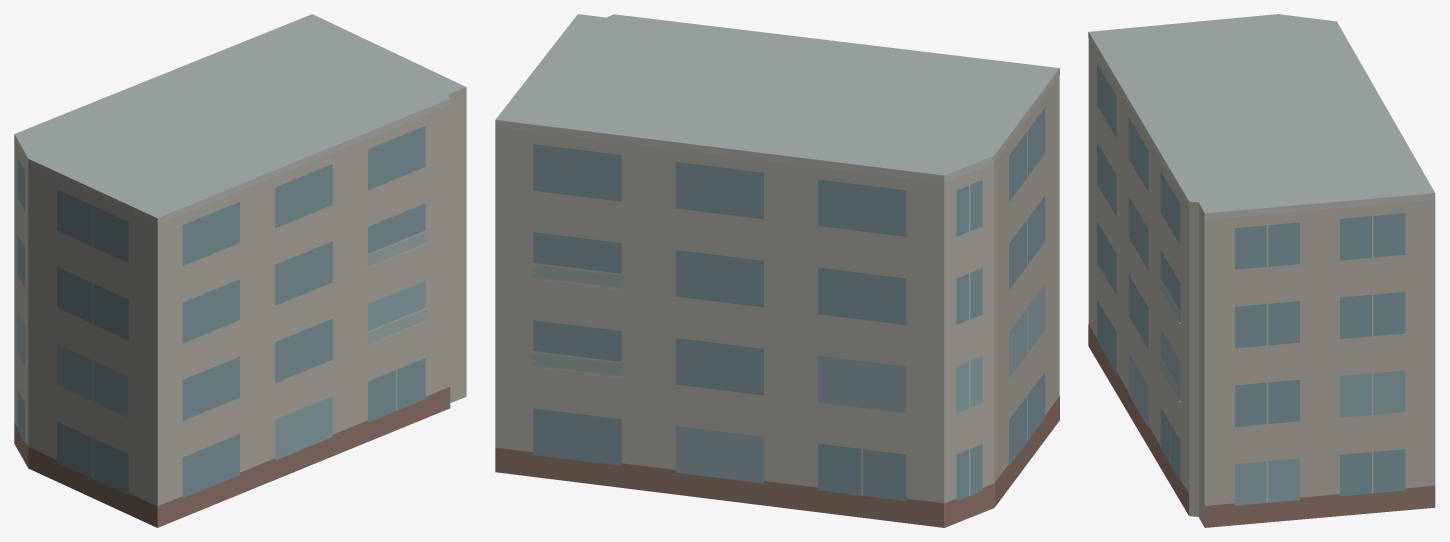
File: survey-upis-32678782.glb
The picture shows the model from 3 angles, left to right: view 1: azimuth 30°, elevation 25°; view 2: azimuth 150°, elevation 25°; view 3: azimuth 270°, elevation 25°; orthographic projection. The views are drawn at different scales.
Visible parts, largest first — view 1: survey-upis-32678782.tmp; view 2: survey-upis-32678782.tmp; view 3: survey-upis-32678782.tmp.
Part boxes in pixels (x1=…): survey-upis-32678782.tmp: x1=14, y1=14, x2=466, y2=527; survey-upis-32678782.tmp: x1=495, y1=14, x2=1059, y2=527; survey-upis-32678782.tmp: x1=1088, y1=14, x2=1435, y2=527.
Bounding box in the file's own units: 16.11 × 11.85 × 11.85.
